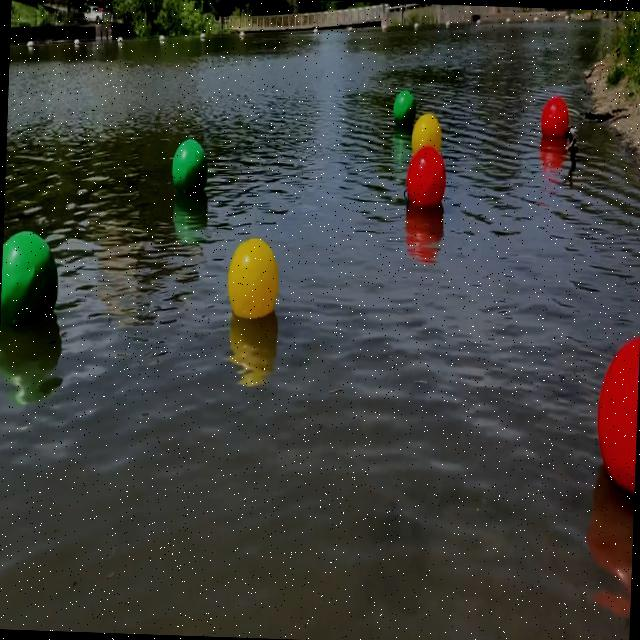buoy: (591, 322, 640, 500), (0, 229, 60, 332), (225, 235, 280, 322), (406, 144, 448, 210), (168, 138, 209, 198), (539, 92, 572, 142), (410, 110, 440, 152), (392, 89, 417, 123)
